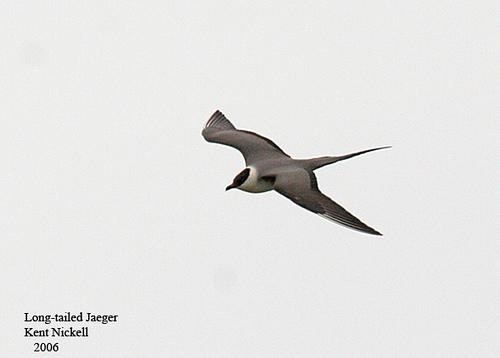bird: (198, 101, 389, 237)
